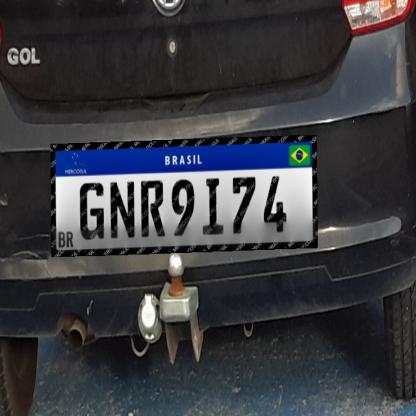PlacaM: (50, 135, 318, 257)
